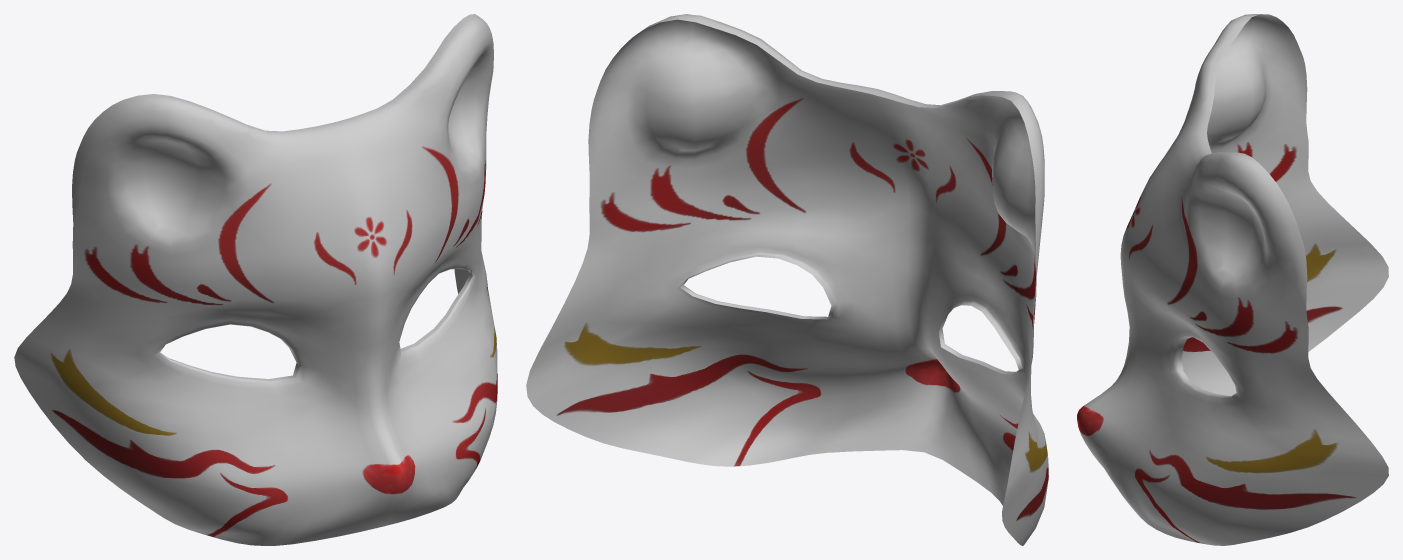
Rendered from mask.glb.
3 views of the same model, side by side, from view 1: azimuth 30°, elevation 25°; view 2: azimuth 150°, elevation 25°; view 3: azimuth 270°, elevation 25° (orthographic). The views are drawn at different scales.
Visible parts, largest first — view 1: Subdivision_Surface_1; view 2: Subdivision_Surface_1; view 3: Subdivision_Surface_1.
Boxes of the visible parts, x1,y1,x2,y2 form: Subdivision_Surface_1: (14,14,497,545); Subdivision_Surface_1: (526,14,1048,545); Subdivision_Surface_1: (1077,14,1388,545).
Bounding box in the file's own units: 191 × 177 × 125.
Materials: 1 (1 with a texture image).
